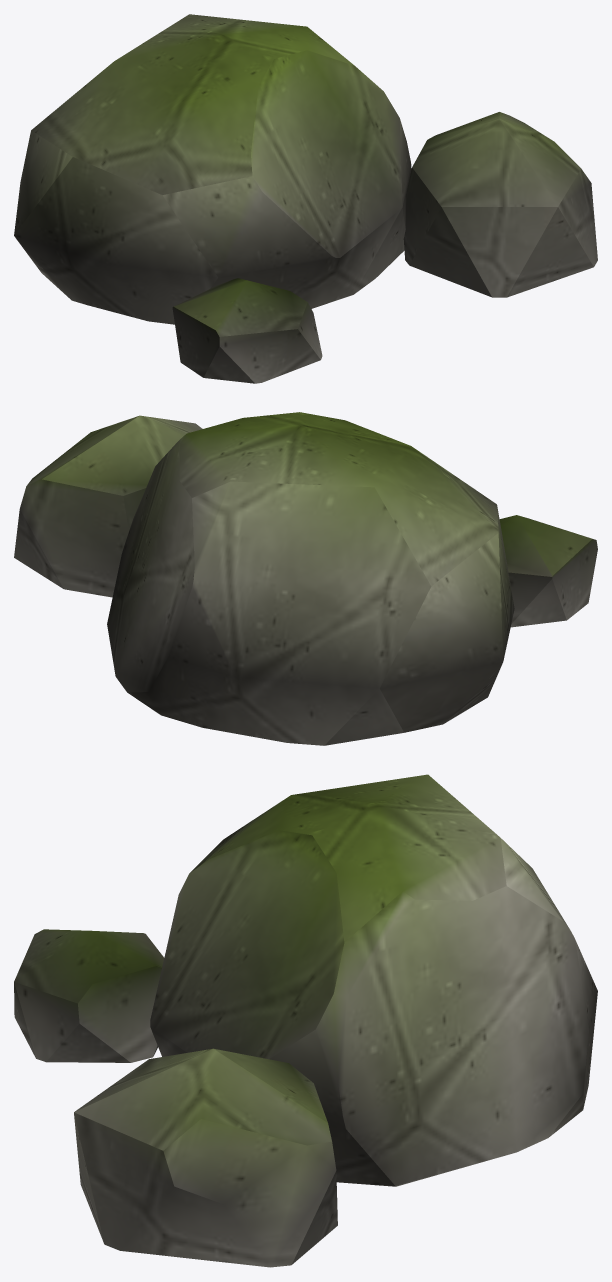
Rendered from rock_field_d.glb.
3 renders of one model, top to bottom at view 1: azimuth 30°, elevation 25°; view 2: azimuth 150°, elevation 25°; view 3: azimuth 270°, elevation 25°, orthographic. The views are drawn at different scales.
Visible parts, largest first — view 1: rock_field_d; view 2: rock_field_d; view 3: rock_field_d.
Boxes of the visible parts, x1,y1,x2,y2 form: rock_field_d: (14, 14, 597, 383); rock_field_d: (14, 412, 597, 745); rock_field_d: (14, 774, 597, 1267).
Size of the model in its own units: 1.33 by 0.5552 by 1.06.
Materials: 1 (1 with a texture image).
